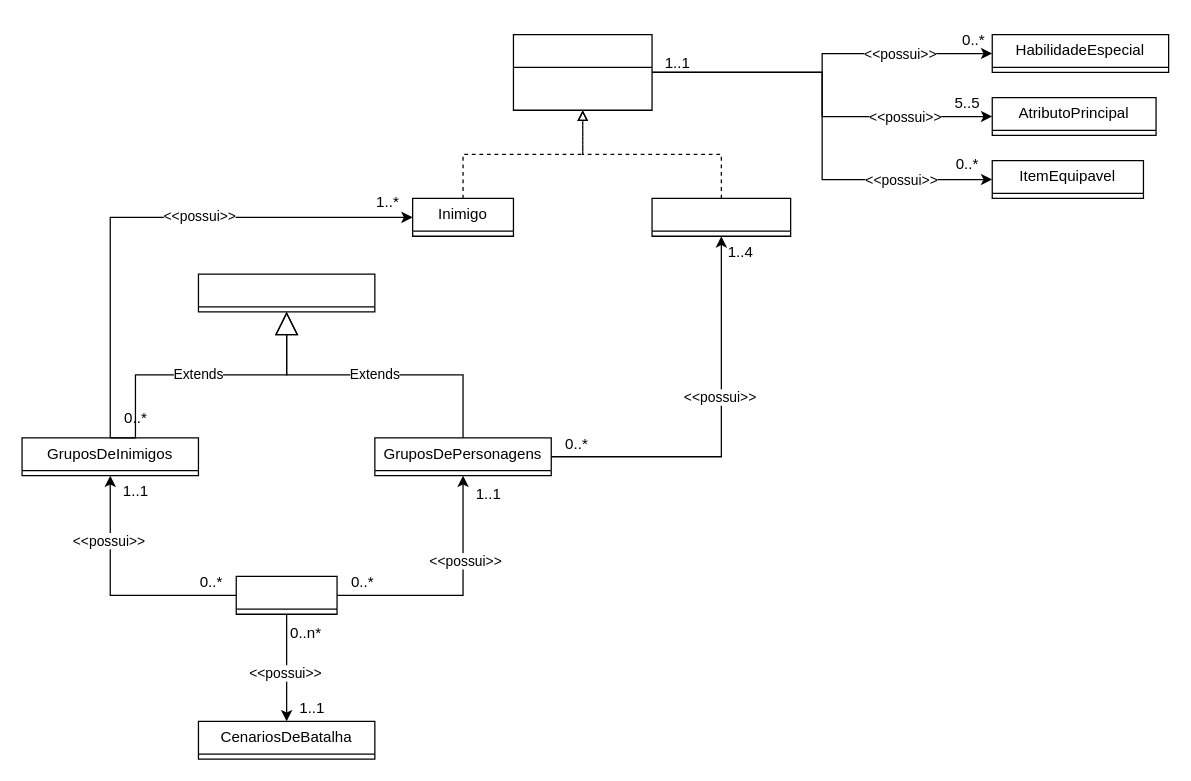
Some shapes in this 1191 by 781 pixel diagram are drawn without their labels. The shapes that lost their labels are listed below. From the top down, each one's centre as x and y in pixels, then its label:
At point 582,71: "Combatente".
At point 721,216: "Personagem".
At point 286,292: "GruposDeBatalha".
At point 286,594: "Batalha".
